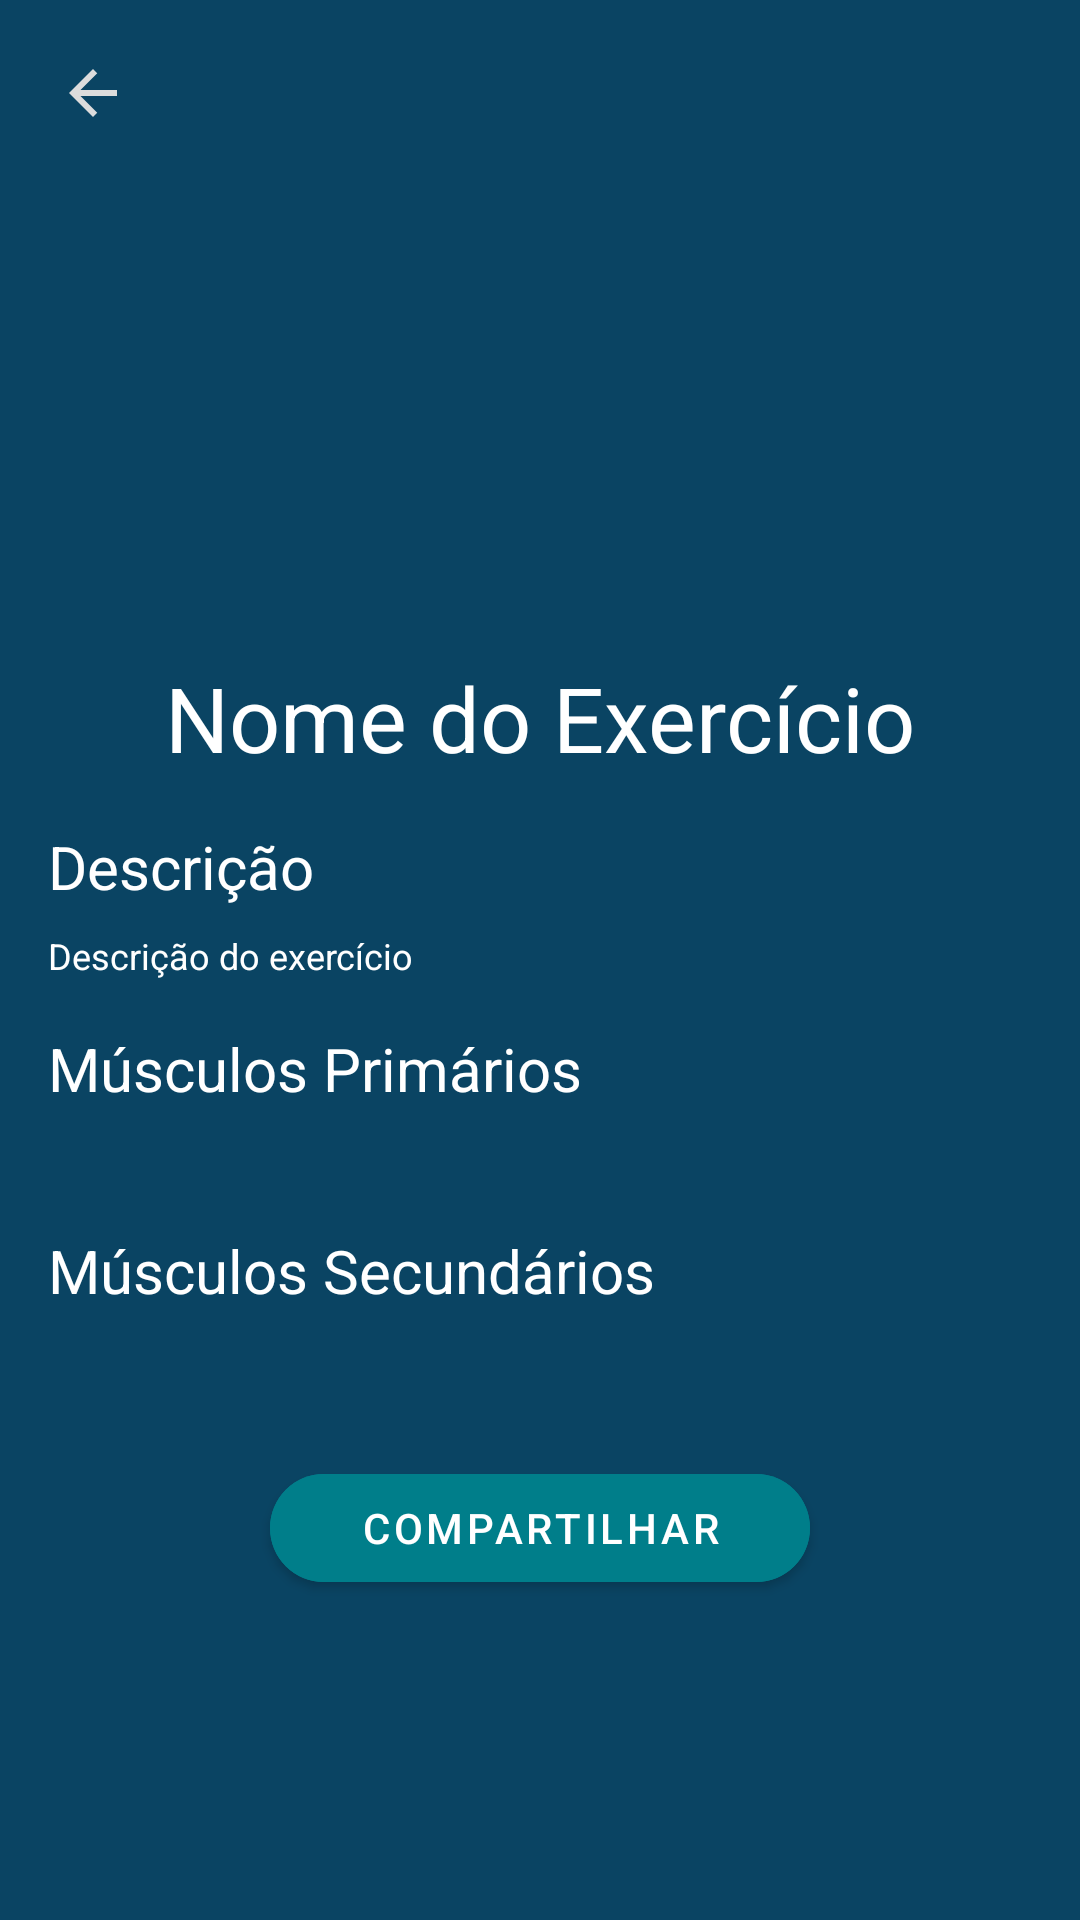

Where to tap for icons on this 1080 x 1920 app screen, as (x,y):
arrow back: (93,93)
